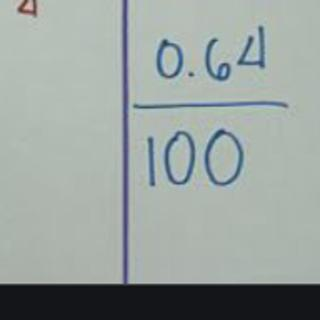.: (182, 59, 207, 86)
0: (156, 127, 198, 186), (205, 127, 246, 187), (152, 39, 189, 82)
1: (141, 128, 162, 188)
4: (238, 25, 274, 72)
6: (203, 33, 236, 86)
